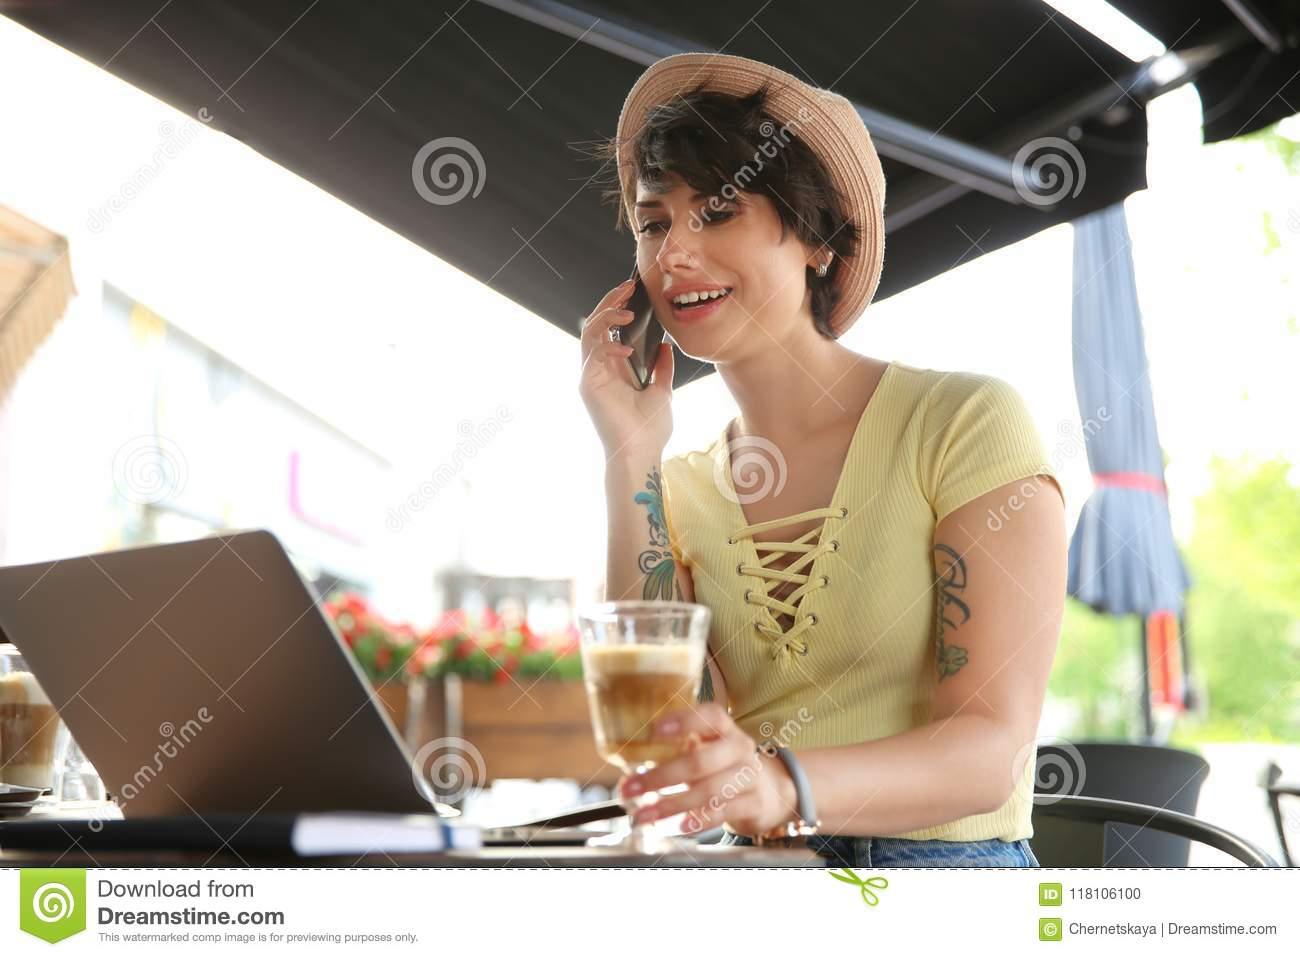phone: (609, 262, 670, 393)
talk: (579, 187, 765, 462)
